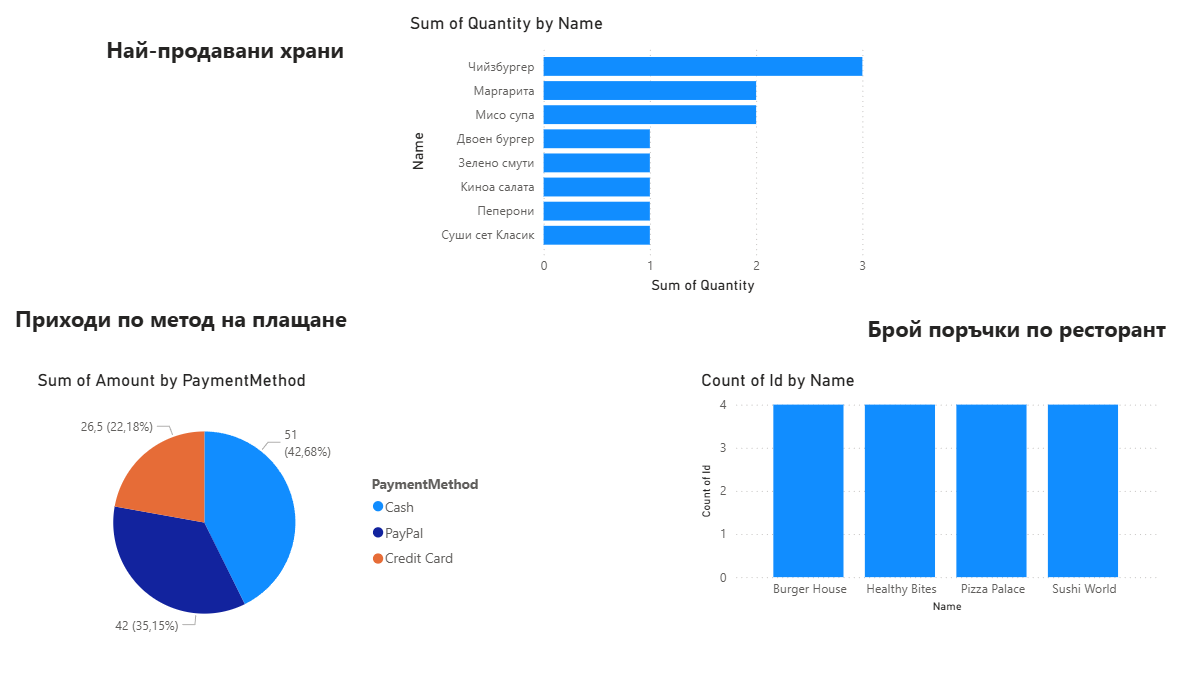

Layout of this report page (visuals, bound fields, positions):
{"tool":"powerbi","page":{"name":"Page 1","canvas":[1280,720],"ordinal":0},"visuals":[{"type":"barChart","fields":{"Category":["Food.Name"],"Y":["Sum(OrderFood.Quantity)"]},"box":[410.8,24.1,456.6,279.5],"z":0},{"type":"pieChart","fields":{"Category":["Payment.PaymentMethod"],"Y":["Sum(Payment.Amount)"]},"box":[47,373.5,456.6,279.5],"z":1},{"type":"columnChart","fields":{"Category":["Restaurant.Name"],"Y":["CountNonNull(Order.Id)"]},"box":[696.4,373.5,456.6,243.4],"z":2},{"type":"textbox","box":[113.3,39.8,278.3,48.2],"z":3},{"type":"textbox","box":[24.1,303.6,354.2,47],"z":4},{"type":"textbox","box":[857.8,313.3,327.7,60.2],"z":5}]}

Visuals, with their boxes in screenshot pixels (x1, y1, x2, y2):
barChart - Food.Name x Sum(OrderFood.Quantity): [461,74,863,320]
pieChart - Payment.PaymentMethod x Sum(Payment.Amount): [140,381,542,628]
columnChart - Restaurant.Name x CountNonNull(Order.Id): [712,381,1114,596]
textbox: [199,88,444,130]
textbox: [120,320,432,361]
textbox: [854,328,1143,381]
